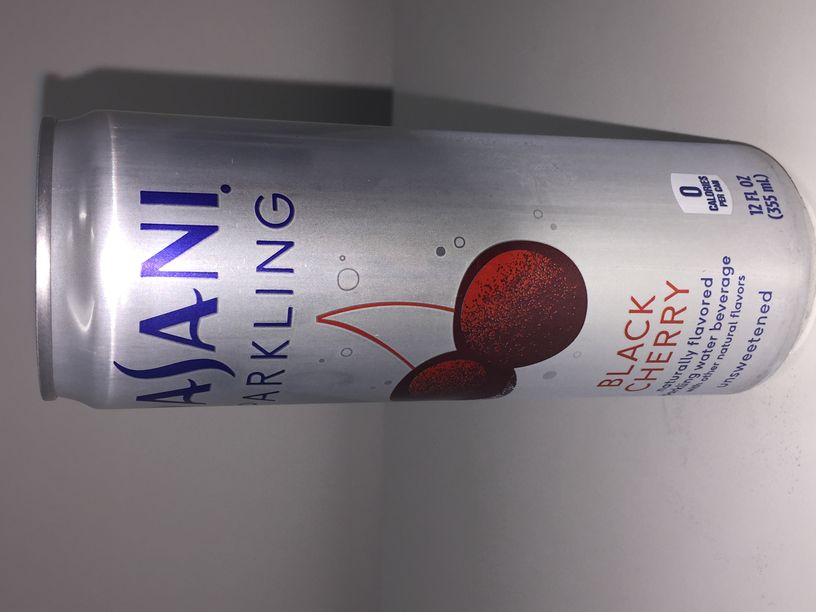blackcherry: (34, 110, 816, 412)
